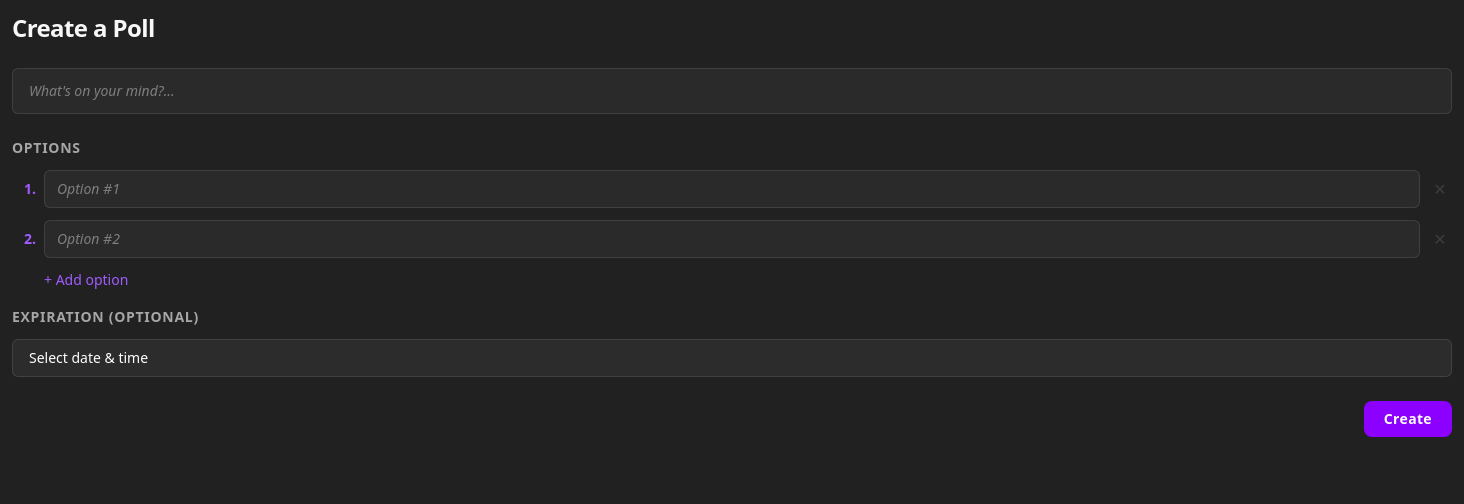
CreatePollPage › "Add option" button appends a new input field
Click the button "+ Add option". click: (86, 280)
box: [44, 270, 128, 290]
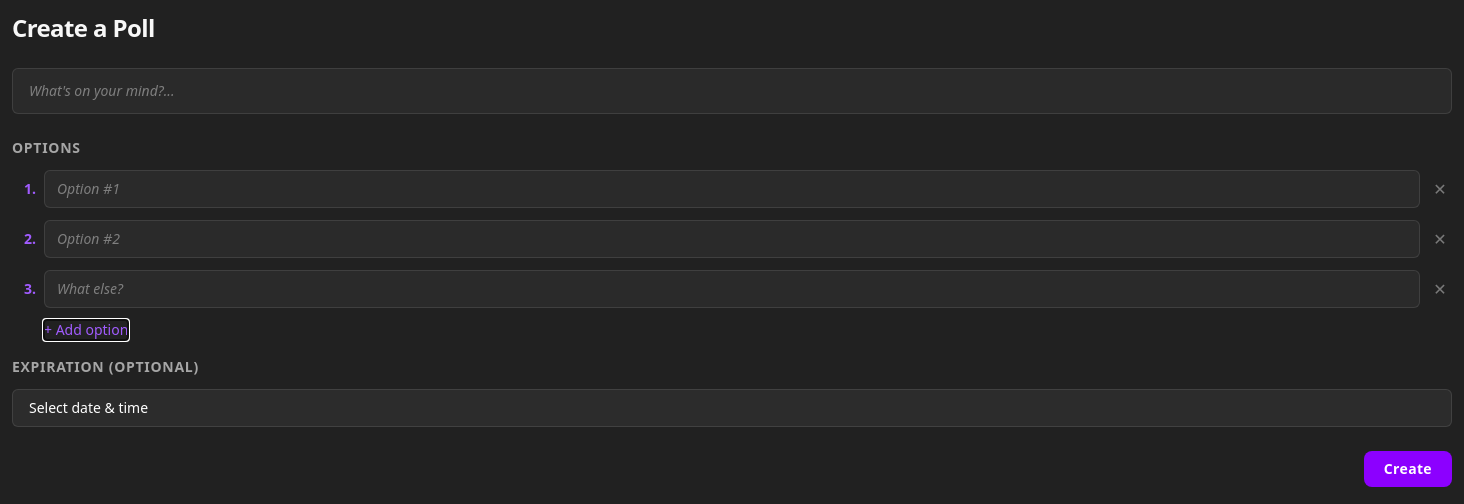
Expected: the field named "option 3" is shown, [44, 270, 1420, 308]
